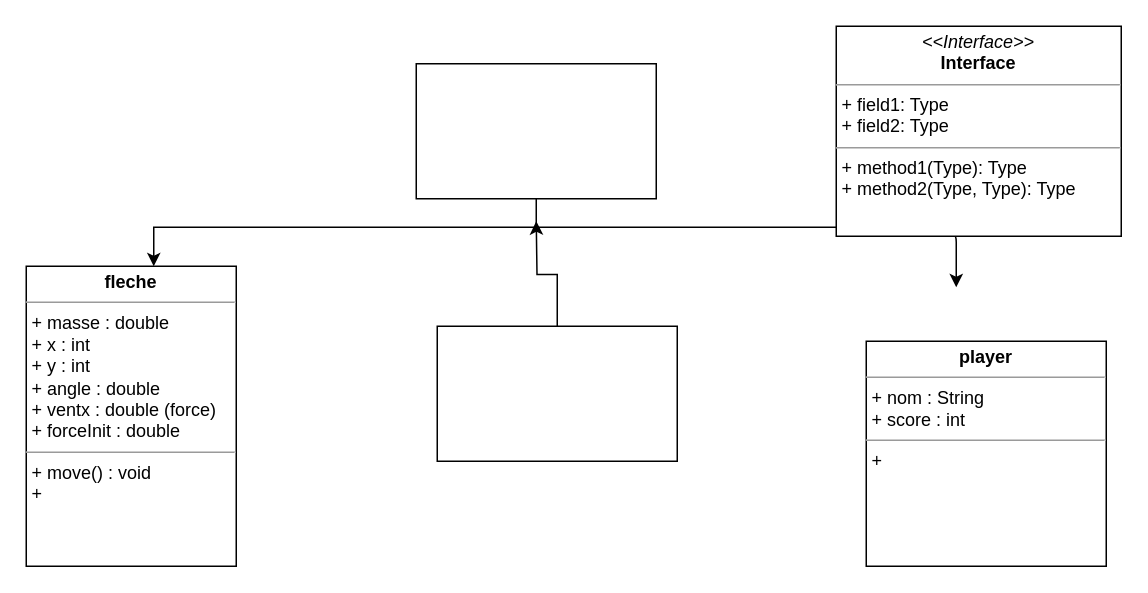
The diagram is 1148 pixels wide and 593 high, and some of its shapes have lost their labels. Here are the shapes that lost their labels. From the top down, the centre of each, then its label:
At pixel 535 130: "mainGame + menu() : void".
At pixel 556 393: "UI + cursor : +".
